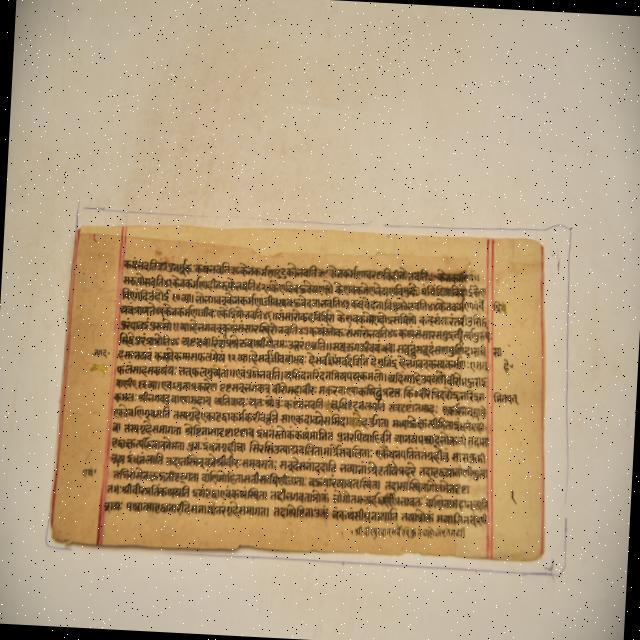text_paragraph: (48, 227, 545, 563)
